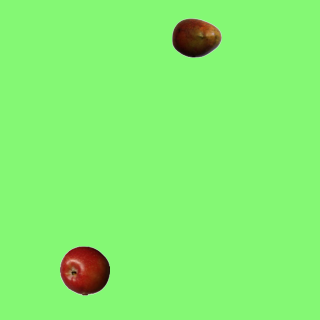Apple Braeburn: (59, 245, 109, 295)
Mango Red: (171, 12, 221, 62)
